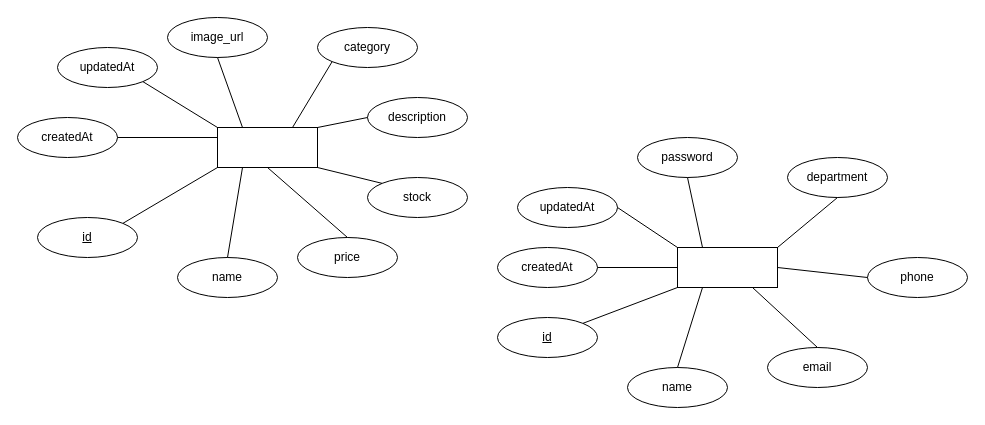
Image size: 985x425. Some labels were removed from this diagram. The shapes that lost their labels are listed below. From the top down, each one's centre as x and y in pixels, then its label:
At pixel 267 147: "Products".
At pixel 727 267: "Users".
